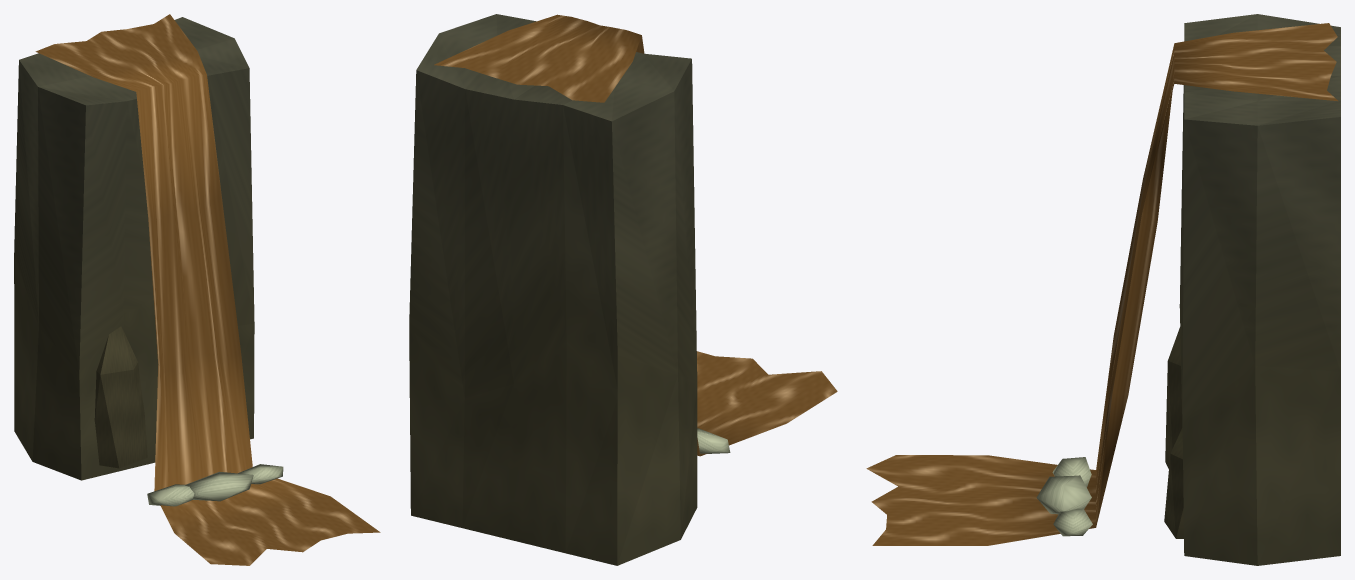
Rendered from fall-hukou-lod1.glb.
3 views of the same model, side by side, from view 1: azimuth 30°, elevation 25°; view 2: azimuth 150°, elevation 25°; view 3: azimuth 270°, elevation 25° (orthographic). The views are drawn at different scales.
Bounding box in the file's own units: 0.5722 × 1 × 0.9697.
Materials: 1 (1 with a texture image).
